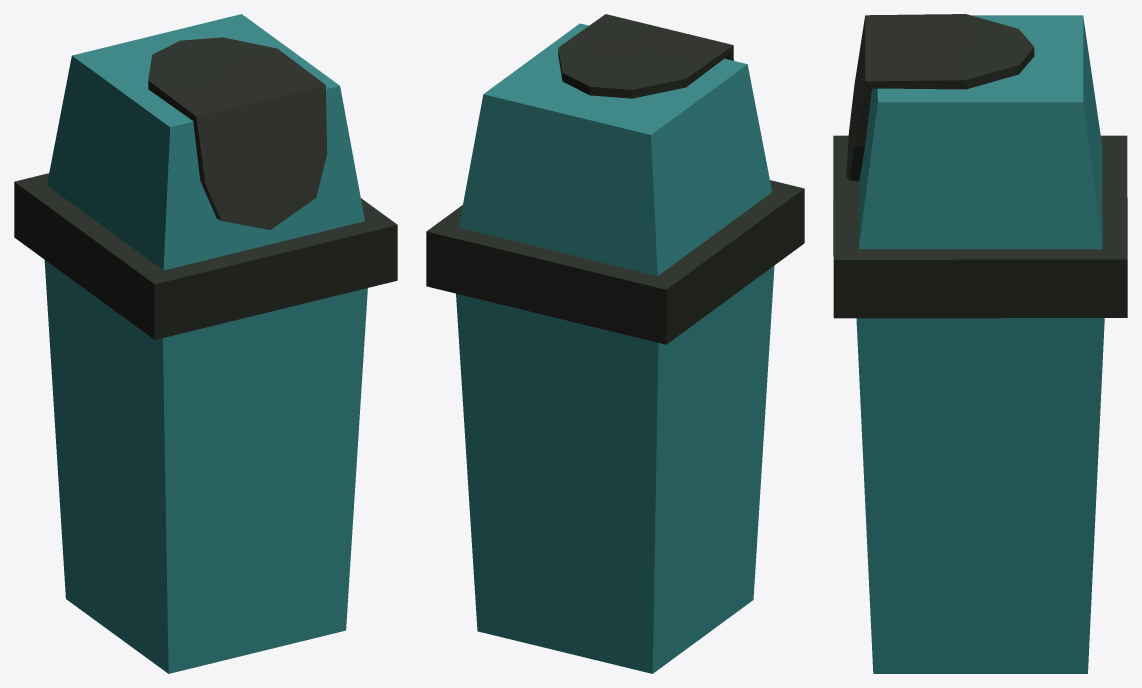
The model's file is Fliptop_Bin.glb.
The picture shows the model from 3 angles, left to right: view 1: azimuth 30°, elevation 25°; view 2: azimuth 150°, elevation 25°; view 3: azimuth 270°, elevation 25°; orthographic projection. The views are drawn at different scales.
Parts seen in each view (by area): view 1: Fliptop_Bin; view 2: Fliptop_Bin; view 3: Fliptop_Bin.
Boxes of the visible parts, x1,y1,x2,y2 form: Fliptop_Bin: (14,14,397,673); Fliptop_Bin: (426,14,804,673); Fliptop_Bin: (833,14,1127,673).
Size of what is drawn, in the model's own units: 0.5407 by 1.18 by 0.5407.
Materials: 1 (1 with a texture image).
